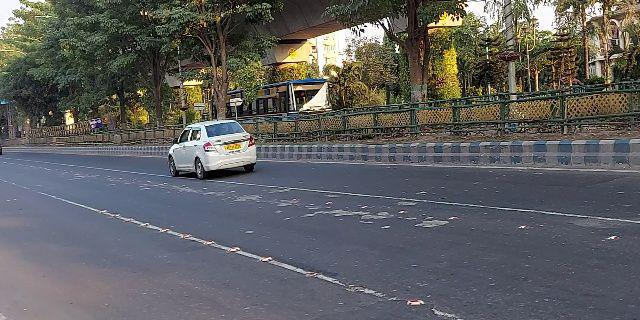Car: (164, 117, 260, 183)
